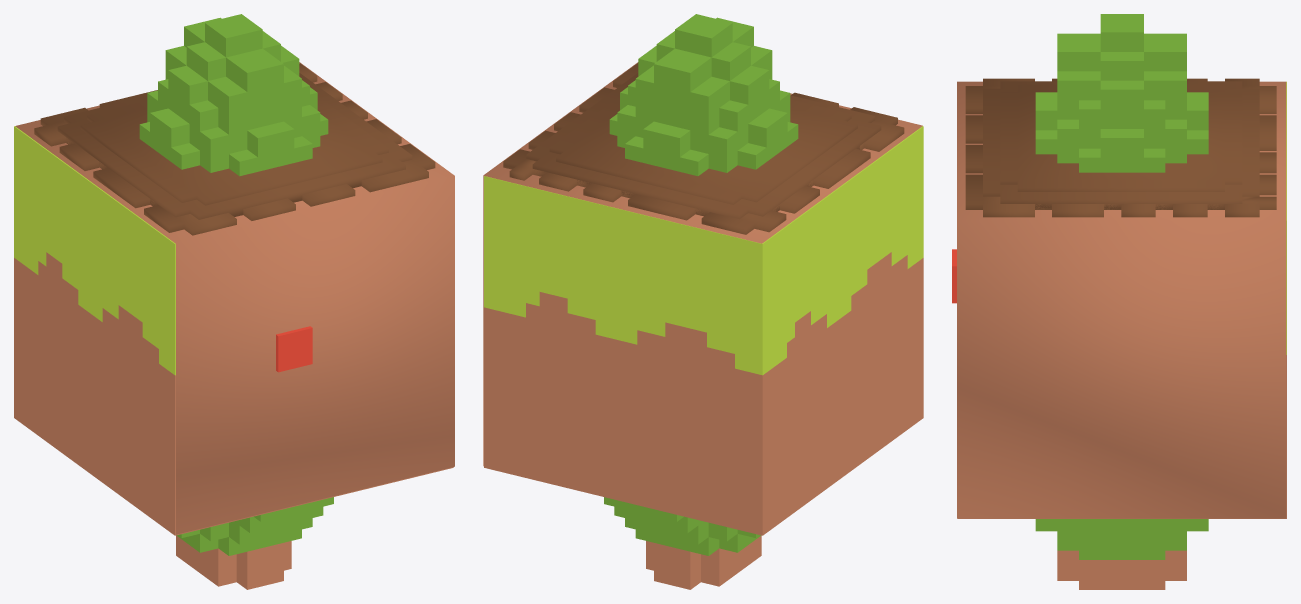
3 views of the same model, side by side, from view 1: azimuth 30°, elevation 25°; view 2: azimuth 150°, elevation 25°; view 3: azimuth 270°, elevation 25° (orthographic). The views are drawn at different scales.
Visible parts, largest first — view 1: soil, grass, tree, berries; view 2: grass, tree, soil; view 3: soil, tree, grass.
Boxes of the visible parts, x1=… form: soil: x1=15, y1=62, x2=454, y2=534; grass: x1=14, y1=126, x2=453, y2=535; tree: x1=139, y1=14, x2=333, y2=589; berries: x1=276, y1=326, x2=312, y2=372; grass: x1=484, y1=126, x2=923, y2=535; tree: x1=604, y1=14, x2=798, y2=589; soil: x1=483, y1=62, x2=922, y2=466; soil: x1=957, y1=78, x2=1286, y2=518; tree: x1=1035, y1=14, x2=1208, y2=589; grass: x1=958, y1=81, x2=1286, y2=518.
Size of the model in its own units: 2.01 by 3.68 by 2.03.
1 material, 1 textured.
